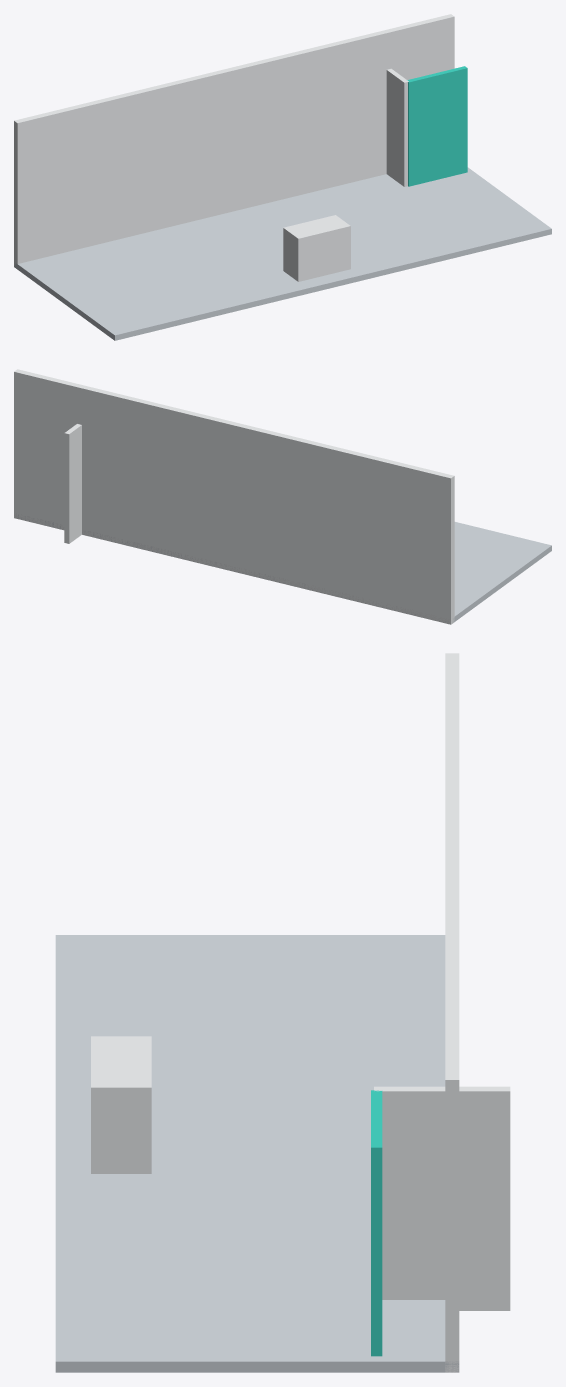
3 renders of one model, top to bottom at view 1: azimuth 30°, elevation 25°; view 2: azimuth 150°, elevation 25°; view 3: azimuth 270°, elevation 25°, orthographic. The views are drawn at different scales.
Parts seen in each view (by area): view 1: Exhibition Booth Concept; view 2: Exhibition Booth Concept; view 3: Exhibition Booth Concept.
Part boxes in pixels (<box>): Exhibition Booth Concept: <box>14,14,551,340</box>; Exhibition Booth Concept: <box>14,369,551,624</box>; Exhibition Booth Concept: <box>55,653,510,1372</box>.
Size of the model in its own units: 10 by 3.2 by 4.51.
